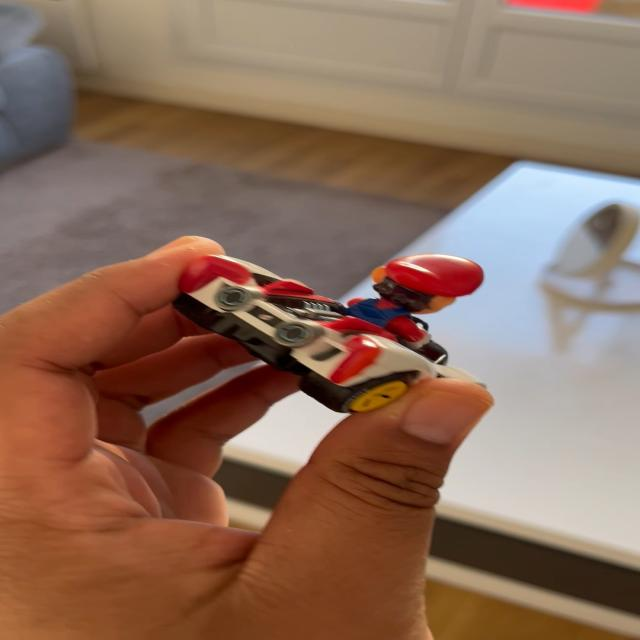mario: (170, 240, 498, 416)
